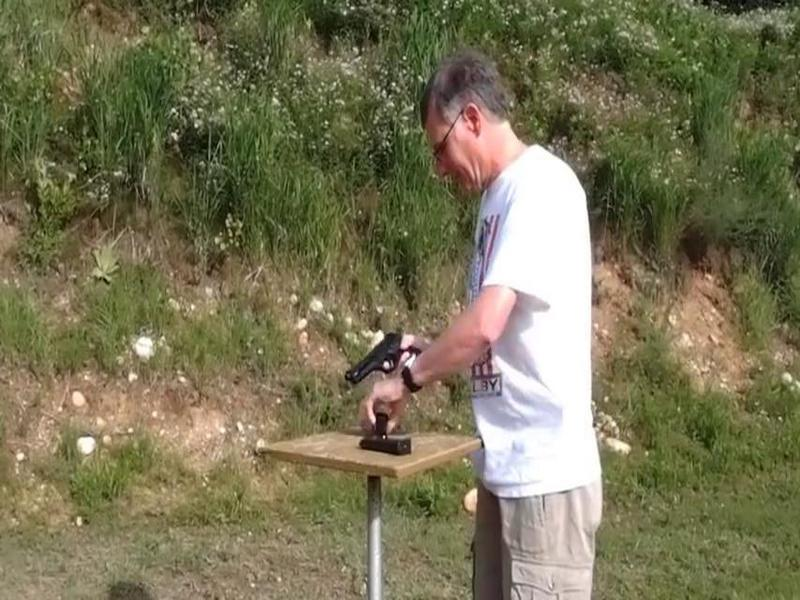Pistola: (339, 325, 452, 406)
